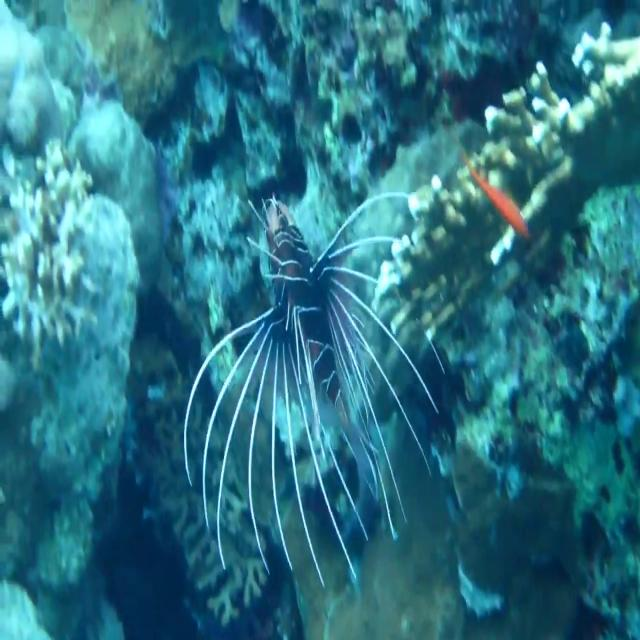Aslan Baligi: (182, 187, 444, 592)
